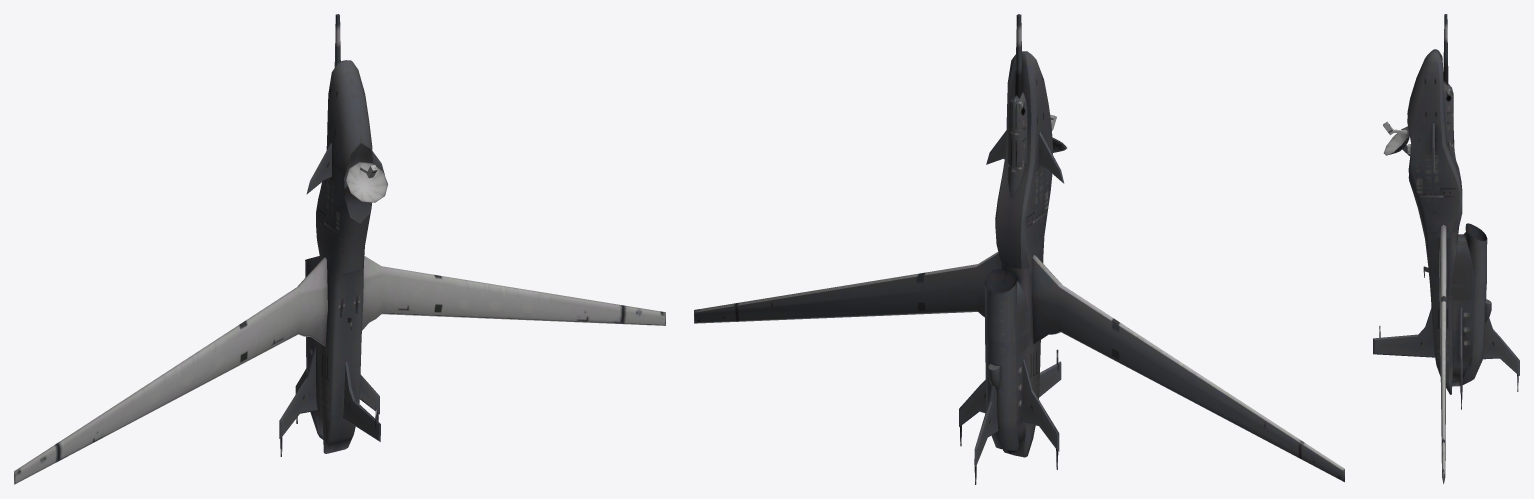
The model's file is PilotFish_UAV.obj.
3 views of the same model, side by side, from view 1: azimuth 30°, elevation 25°; view 2: azimuth 150°, elevation 25°; view 3: azimuth 270°, elevation 25° (orthographic). The views are drawn at different scales.
Visible parts, largest first — view 1: LOD0; view 2: LOD0; view 3: LOD0.
Part boxes in pixels (left/top/right/bottom): LOD0: left=14, top=14, right=665, bottom=484; LOD0: left=694, top=14, right=1344, bottom=484; LOD0: left=1373, top=14, right=1519, bottom=484.
Bounding box in the file's own units: 25.86 × 16.68 × 5.89.
1 material, 1 textured.
